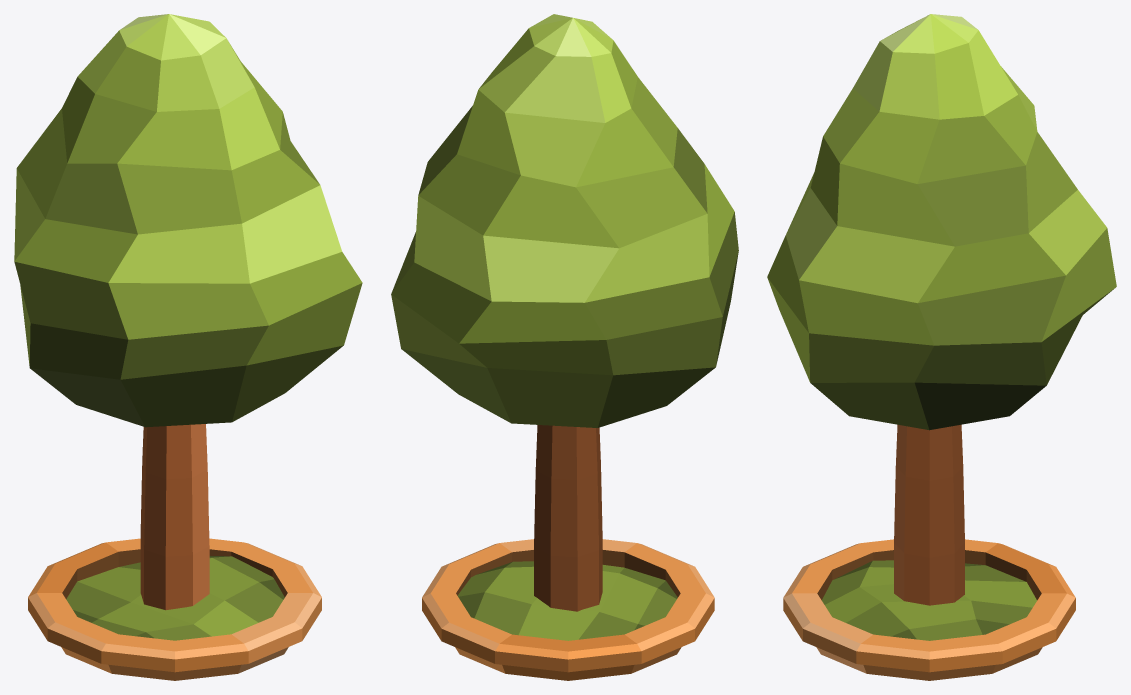
File: BAKE_EXT_L3_TreePot_01.fbx
3 views of the same model, side by side, from view 1: azimuth 30°, elevation 25°; view 2: azimuth 150°, elevation 25°; view 3: azimuth 270°, elevation 25° (orthographic).
Visible parts, largest first — view 1: BAKE_EXT_L3_TreePot_01; view 2: BAKE_EXT_L3_TreePot_01; view 3: BAKE_EXT_L3_TreePot_01.
Part boxes in pixels (x1,y1,x2,y2): BAKE_EXT_L3_TreePot_01: [14, 14, 362, 680]; BAKE_EXT_L3_TreePot_01: [391, 14, 738, 680]; BAKE_EXT_L3_TreePot_01: [767, 14, 1116, 680].
Bounding box in the file's own units: 1.94 × 3.87 × 2.
